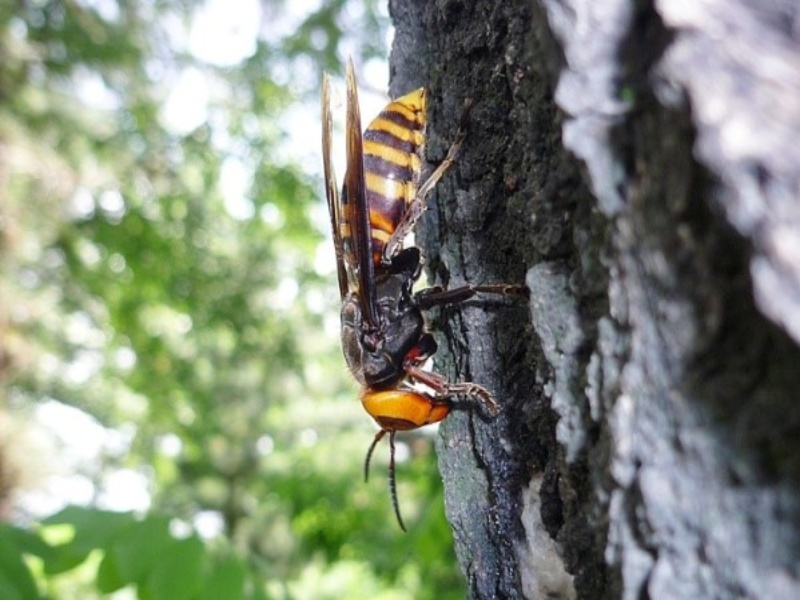asian_giant_hornet: (310, 56, 521, 530)
